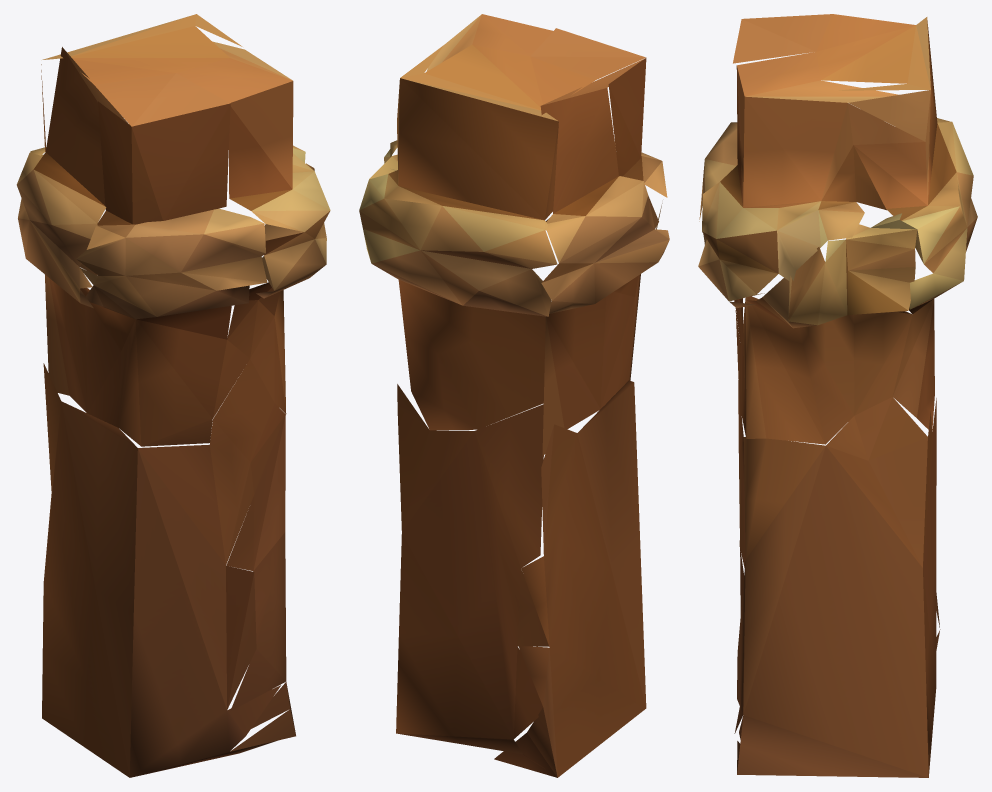
File: building-rainTank-post.glb
The picture shows the model from 3 angles, left to right: view 1: azimuth 30°, elevation 25°; view 2: azimuth 150°, elevation 25°; view 3: azimuth 270°, elevation 25°; orthographic projection. The views are drawn at different scales.
Visible parts, largest first — view 1: 0_rainTank-post; view 2: 0_rainTank-post; view 3: 0_rainTank-post.
Boxes of the visible parts, bbox=[...] form: 0_rainTank-post: bbox=[16, 14, 330, 777]; 0_rainTank-post: bbox=[359, 14, 669, 777]; 0_rainTank-post: bbox=[698, 14, 977, 777].
Bounding box in the file's own units: 0.4082 × 1 × 0.3647.
